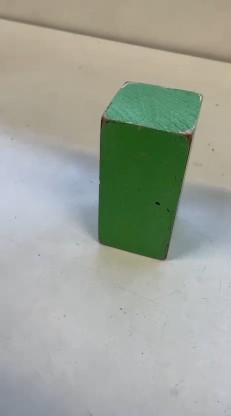green: (96, 94, 182, 245)
